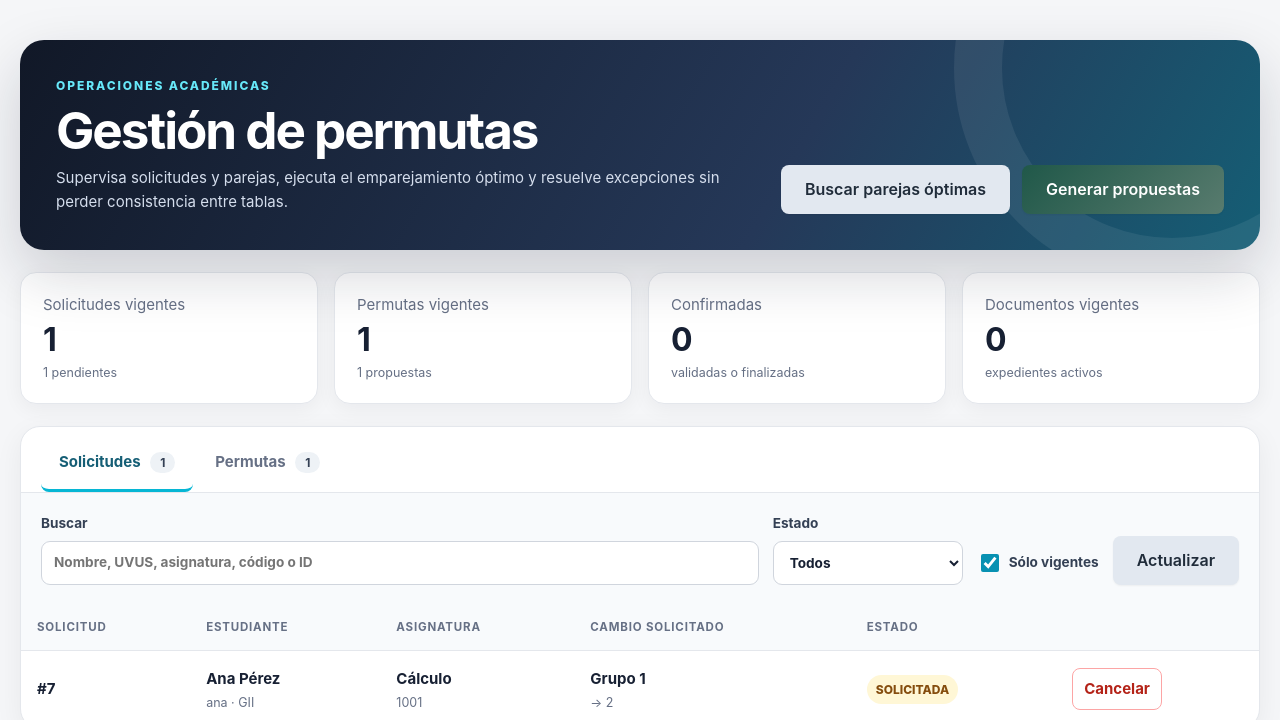
Scenario: GestionPermutas › muestra resumen, solicitudes y permite buscar parejas sin escribir
Expected: the text "Ana Pérez" is shown, [206, 669, 280, 688]
Expected: the text "Solicitudes vigentes" is shown, [43, 295, 185, 314]
Click the button "Buscar parejas óptimas" at point(896, 190), box [781, 165, 1010, 214]
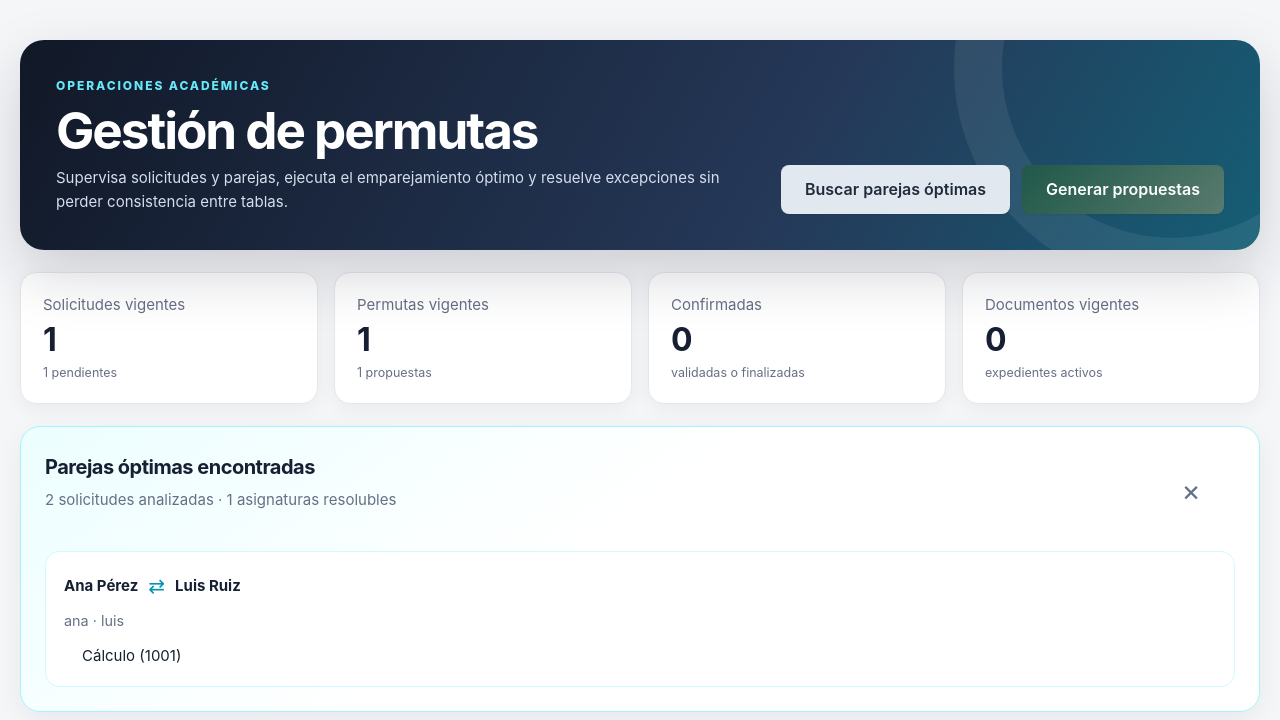
Now the heading "Parejas óptimas encontradas" is shown, box [45, 455, 315, 479]
